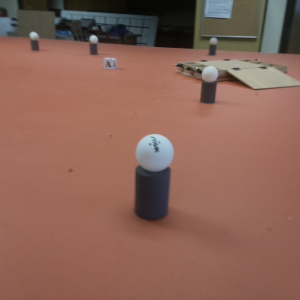blockA: (102, 57, 120, 71)
obstacle: (129, 132, 179, 225), (202, 67, 219, 104), (29, 33, 42, 52), (89, 34, 99, 57), (208, 36, 217, 55)
side: (174, 59, 201, 82)
slope: (231, 66, 295, 88)
